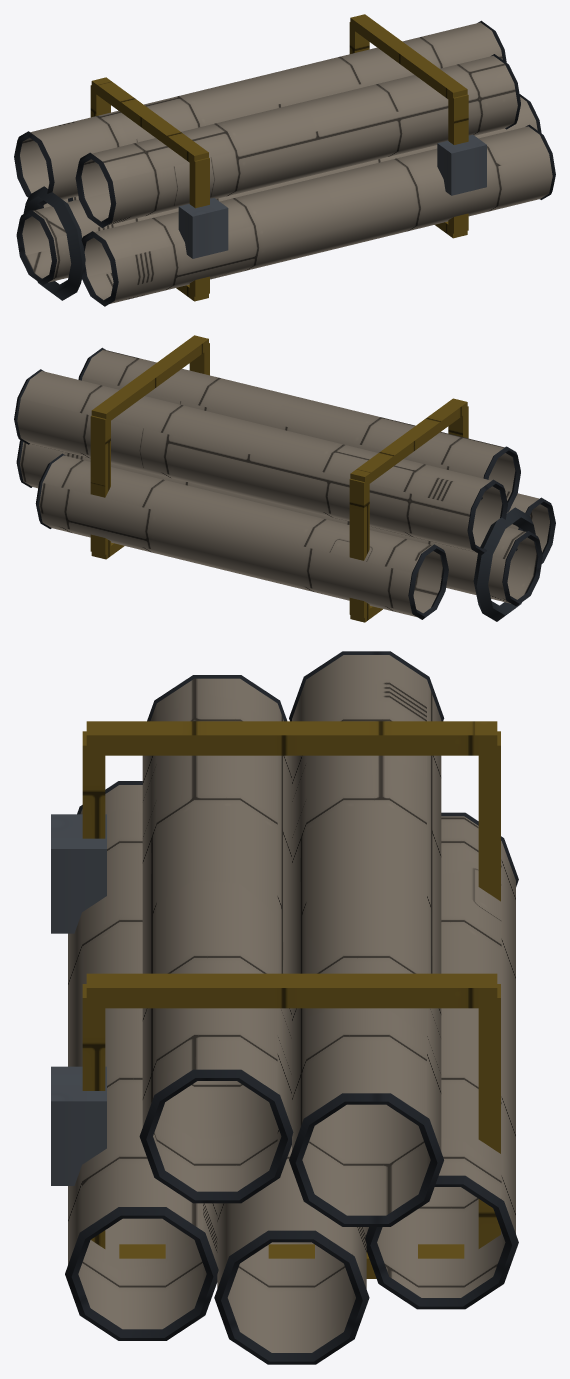
File: cargo-scavenged-pipe-bundle_lod2.glb
3 renders of one model, top to bottom at view 1: azimuth 30°, elevation 25°; view 2: azimuth 150°, elevation 25°; view 3: azimuth 270°, elevation 25°, orthographic. The views are drawn at different scales.
Parts seen in each view (by area): view 1: LOD2_BrushedMetal, LOD2_Livery, LOD2_Mechanical, LOD2_MechanicalDark, LOD2_Armor; view 2: LOD2_BrushedMetal, LOD2_Livery, LOD2_MechanicalDark, LOD2_Armor; view 3: LOD2_BrushedMetal, LOD2_Livery, LOD2_MechanicalDark, LOD2_Mechanical.
Boxes of the visible parts, box(x1,y1,x2,y2) form: LOD2_BrushedMetal: box(20, 22, 552, 303); LOD2_Livery: box(90, 14, 468, 301); LOD2_Mechanical: box(178, 134, 486, 258); LOD2_MechanicalDark: box(14, 20, 555, 306); LOD2_Armor: box(23, 186, 85, 300); LOD2_BrushedMetal: box(17, 349, 549, 616); LOD2_Livery: box(90, 335, 468, 622); LOD2_MechanicalDark: box(14, 347, 555, 619); LOD2_Armor: box(473, 507, 535, 621); LOD2_BrushedMetal: box(68, 655, 515, 1352); LOD2_Livery: box(82, 721, 500, 1278); LOD2_MechanicalDark: box(65, 651, 518, 1364); LOD2_Mechanical: box(51, 814, 106, 1185).
Bounding box in the file's own units: 3.04 × 0.9096 × 1.25.
Materials: 5 (5 with a texture image).
